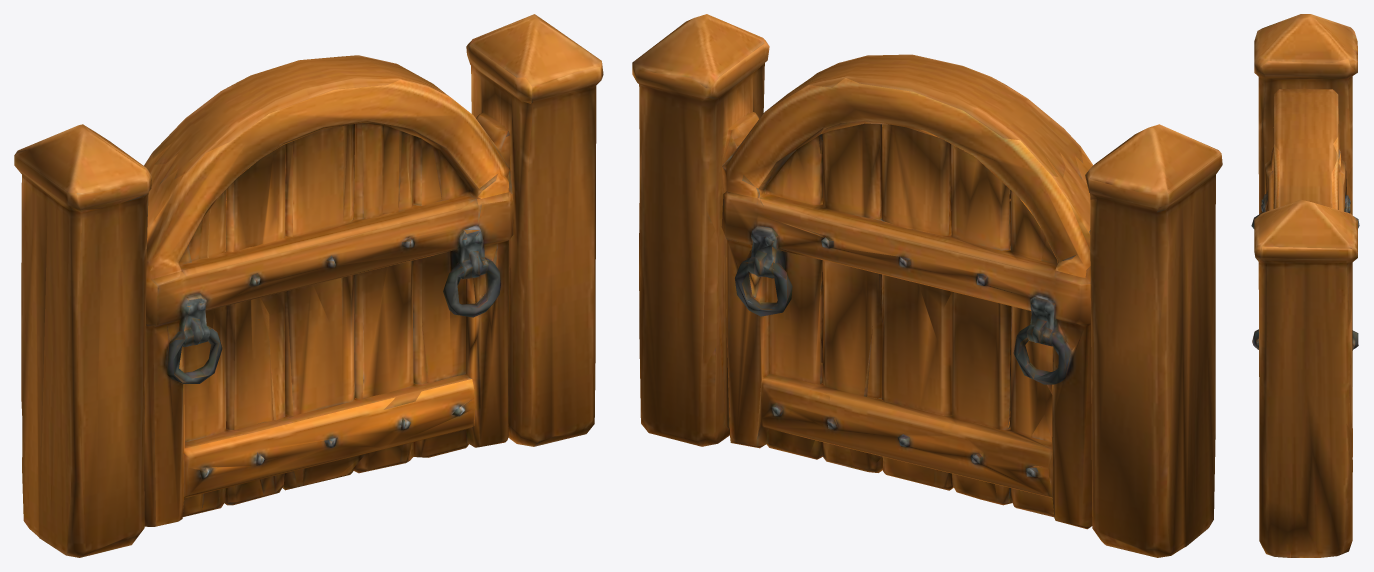
Rendered from gate-arch.glb.
3 views of the same model, side by side, from view 1: azimuth 30°, elevation 25°; view 2: azimuth 150°, elevation 25°; view 3: azimuth 270°, elevation 25° (orthographic). The views are drawn at different scales.
Visible parts, largest first — view 1: Mesh1.0; view 2: Mesh1.0; view 3: Mesh1.0.
Part boxes in pixels (x1,y1,x2,y2): Mesh1.0: (14,14,603,557); Mesh1.0: (632,14,1222,557); Mesh1.0: (1251,14,1359,557).
Size of the model in its own units: 1.9 by 1.38 by 0.395.
1 material, 1 textured.
